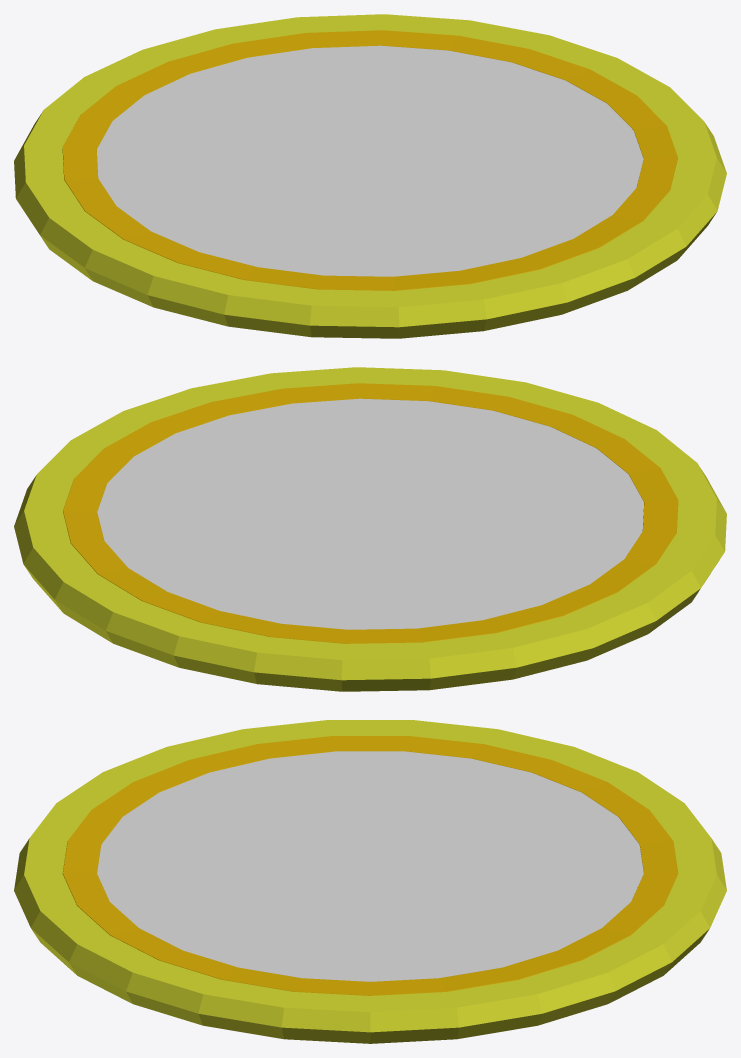
The model's file is arena6.fbx.
3 renders of one model, top to bottom at view 1: azimuth 30°, elevation 25°; view 2: azimuth 150°, elevation 25°; view 3: azimuth 270°, elevation 25°, orthographic.
Visible parts, largest first — view 1: Cylinder, Torus.001, Torus; view 2: Cylinder, Torus.001, Torus; view 3: Cylinder, Torus.001, Torus.
Part boxes in pixels (x1=…): Cylinder: x1=97, y1=45, x2=643, y2=276; Torus.001: x1=14, y1=14, x2=726, y2=338; Torus: x1=62, y1=30, x2=677, y2=290; Cylinder: x1=97, y1=398, x2=643, y2=629; Torus.001: x1=14, y1=367, x2=726, y2=691; Torus: x1=63, y1=383, x2=678, y2=643; Cylinder: x1=97, y1=751, x2=643, y2=981; Torus.001: x1=14, y1=720, x2=726, y2=1043; Torus: x1=62, y1=736, x2=678, y2=995.
Bounding box in the file's own units: 727 × 36.06 × 728.
